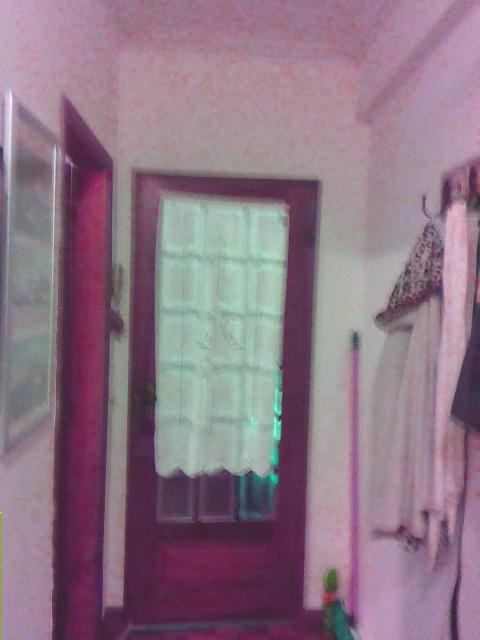closed_door: (122, 167, 323, 627)
